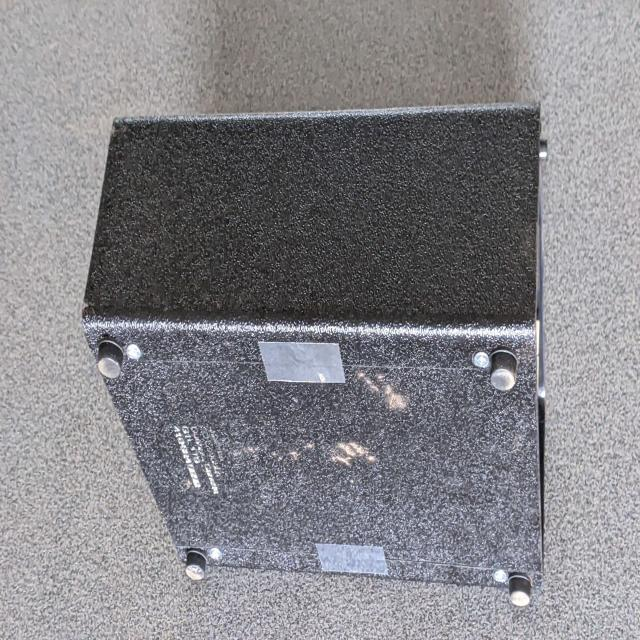SRP Digital Spark Timer: (77, 92, 566, 621)
